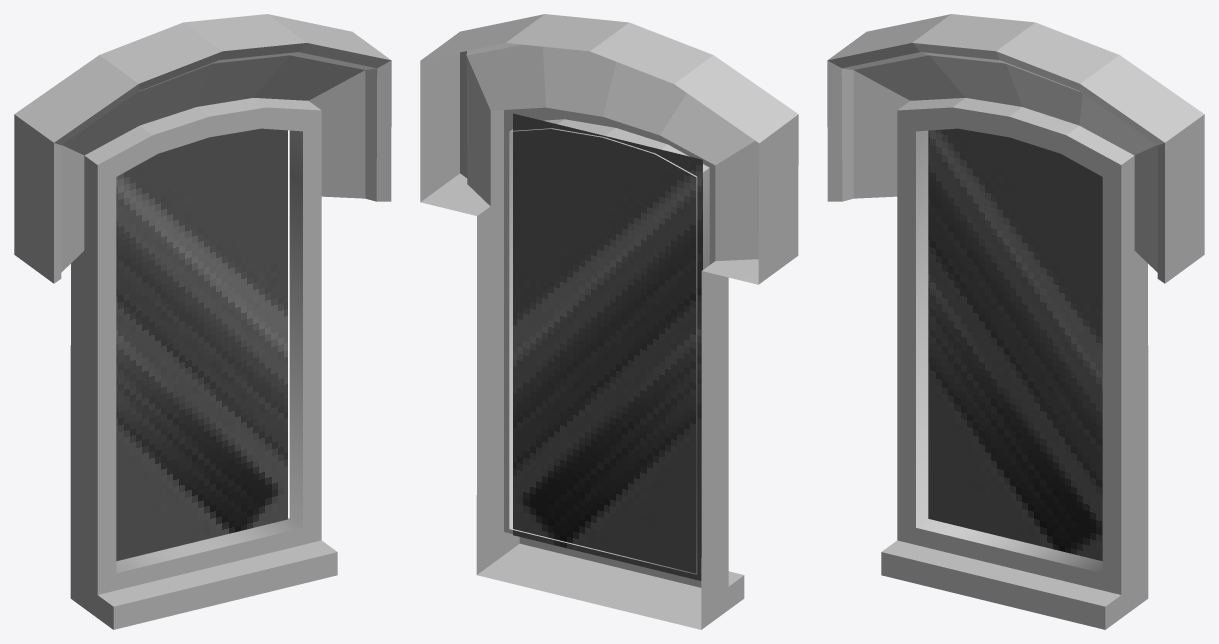
The model's file is window4.FBX.
3 views of the same model, side by side, from view 1: azimuth 30°, elevation 25°; view 2: azimuth 150°, elevation 25°; view 3: azimuth 330°, elevation 25° (orthographic).
Visible parts, largest first — view 1: frame, glass; view 2: frame, glass; view 3: frame, glass.
Boxes of the visible parts, x1,y1,x2,y2 form: frame: [14, 14, 391, 629]; glass: [116, 128, 287, 561]; frame: [420, 14, 798, 629]; glass: [513, 113, 702, 580]; frame: [827, 14, 1204, 629]; glass: [928, 128, 1102, 561].
Bounding box in the file's own units: 1.35 × 2.09 × 0.2962.
